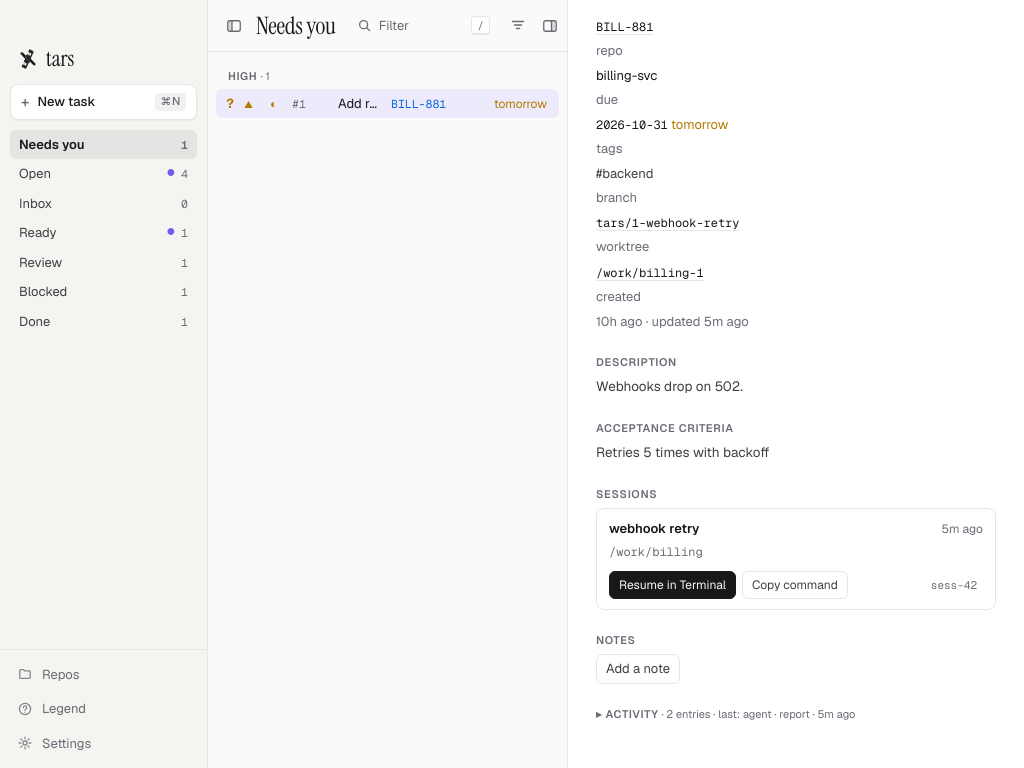
detail pane › shows the report card, fields, sessions and a collapsed activity log
(page scrolled)
Check: the navigation bar named "Views" is shown, box [0,0,208,767]
Check: the text "Webhooks drop on 502." is shown, box [596,377,743,395]
Click the button "Copy command" at x=795, y=585, box [742,571,848,599]
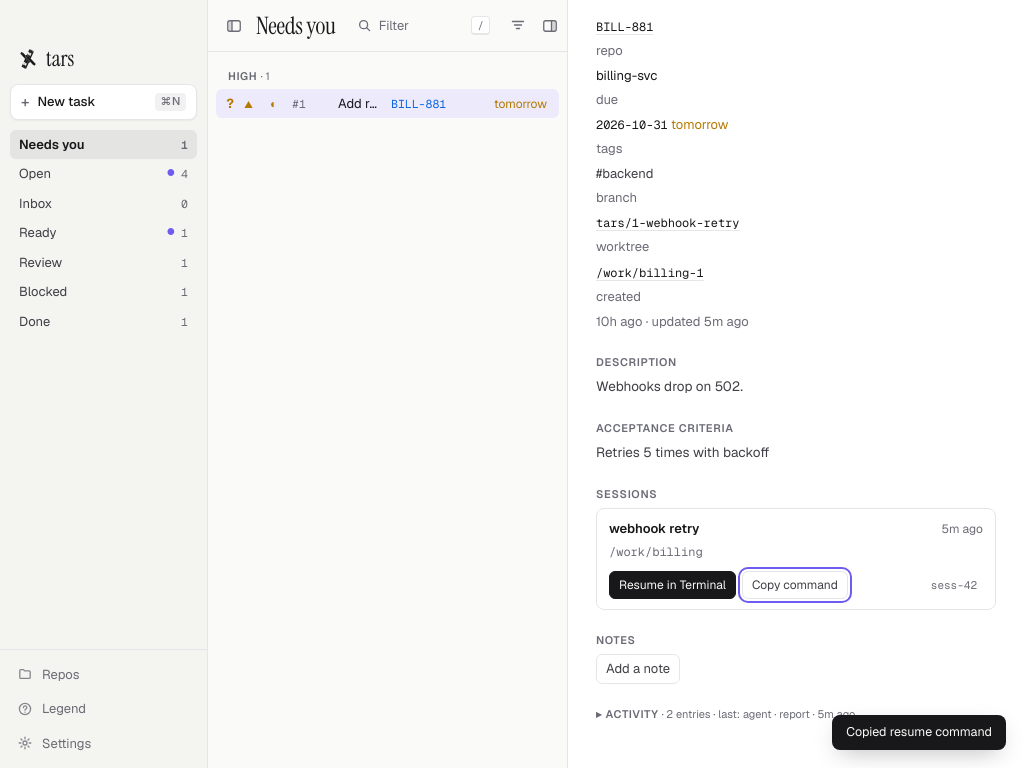
Click the button "Resume in Terminal" at x=672, y=585, box [609,571,736,599]
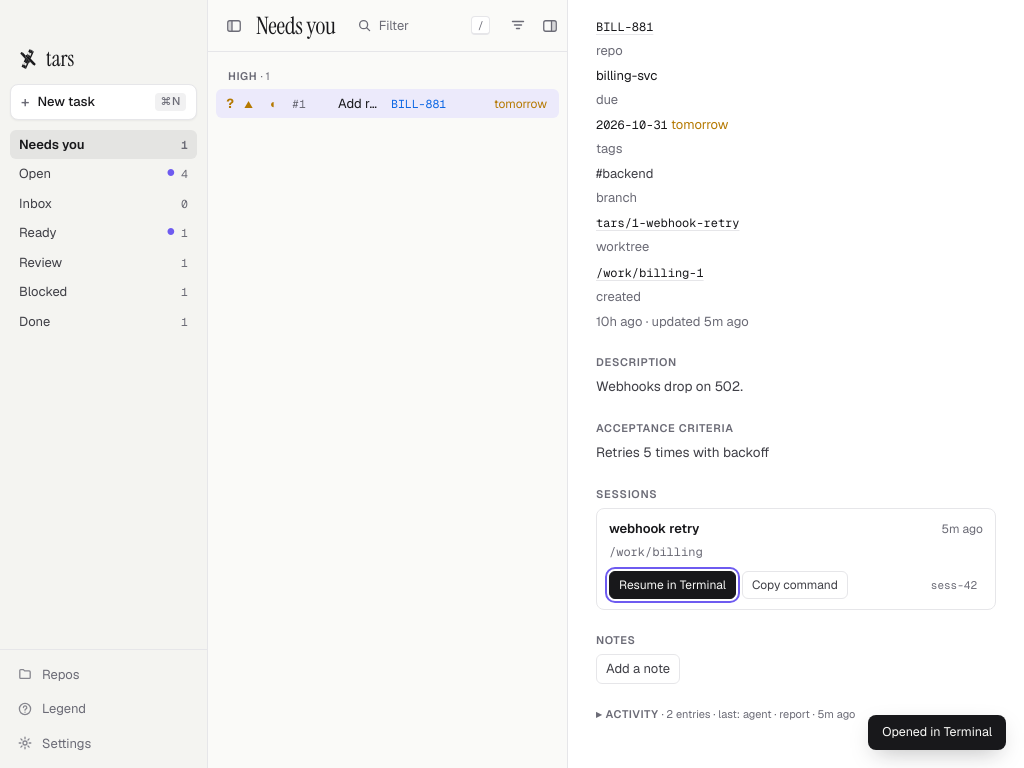
Click the button "tars/1-webhook-retry" at x=668, y=224, box [596,215,739,233]
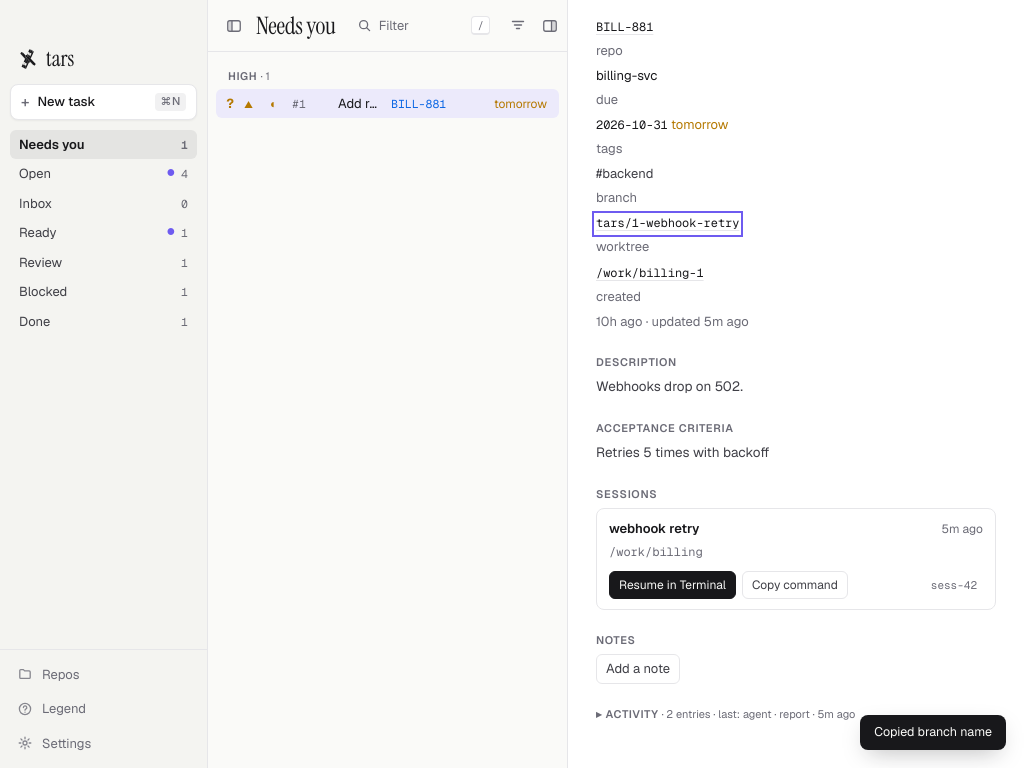
Click the button "/work/billing-1" at x=650, y=274, box [596,265,704,283]
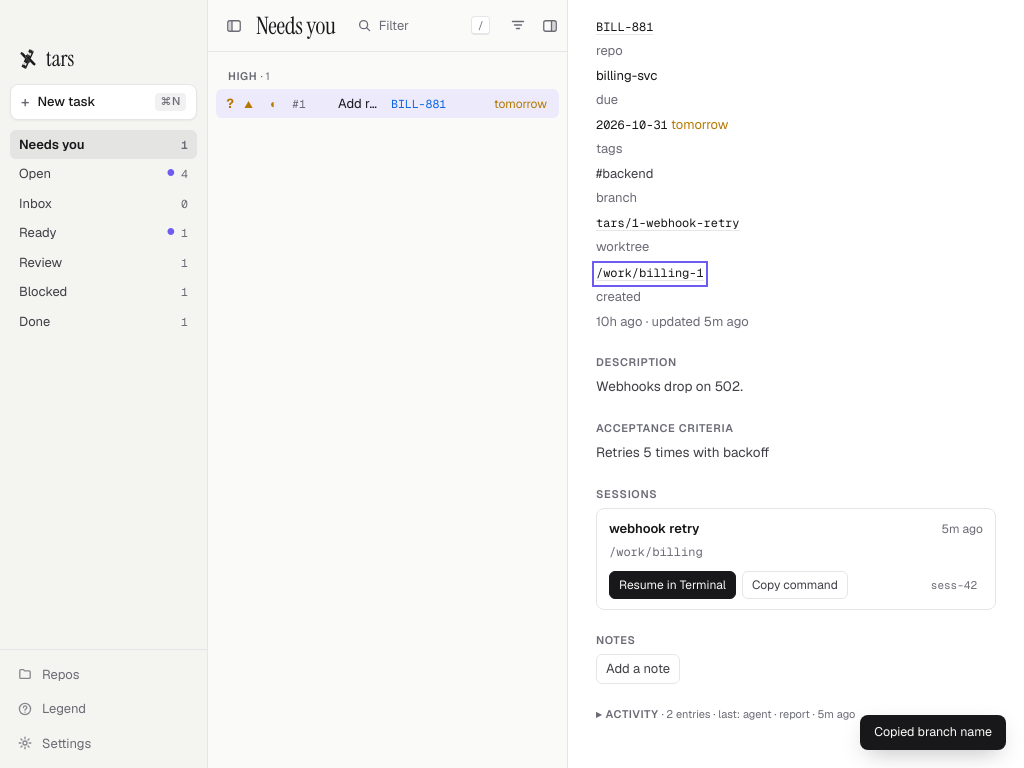
Check: the button "▸ Activity · 2 entries · last: agent · report · 5m ago" is shown, box [596,706,855,722]
Check: the text "Started looking" is not shown
Type keys "l"
(page scrolled)
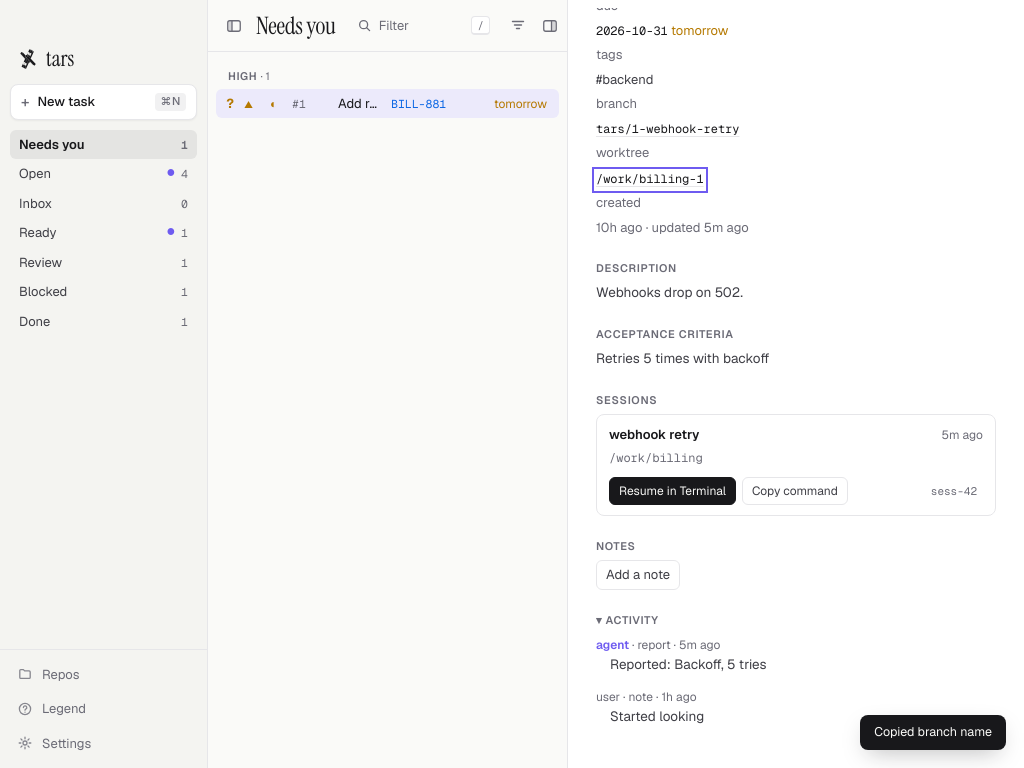
Check: the text "Started looking" is shown, box [610,707,704,725]
